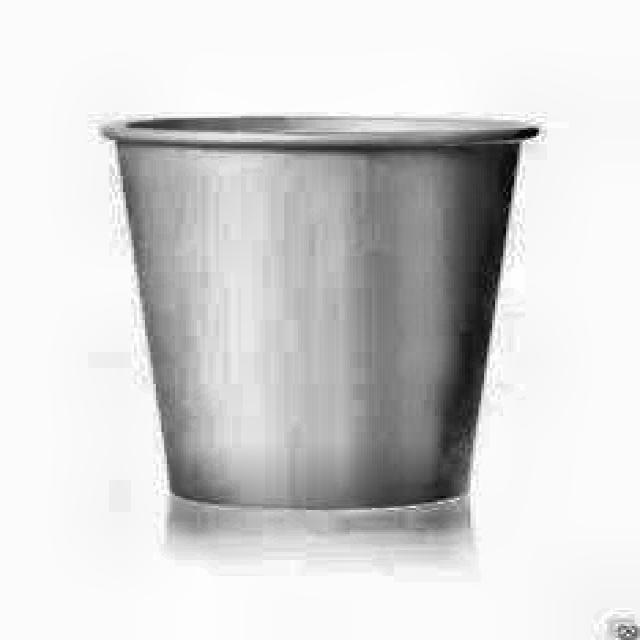Cup: (94, 98, 552, 518)
